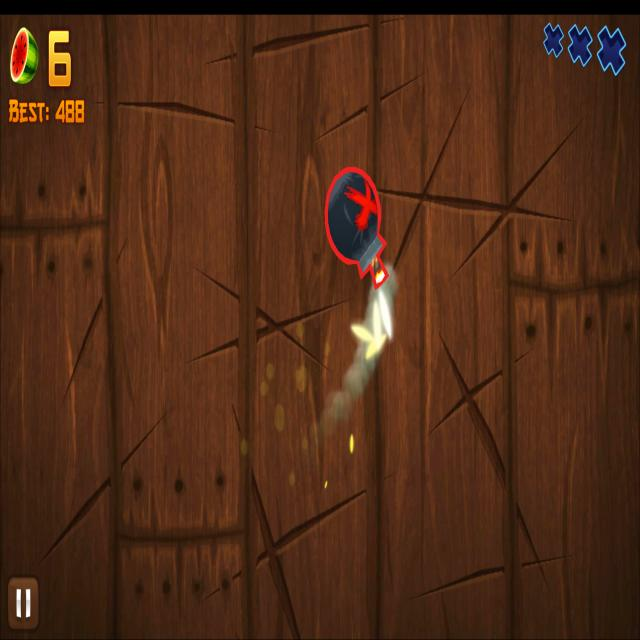bomb: (325, 166, 389, 290)
